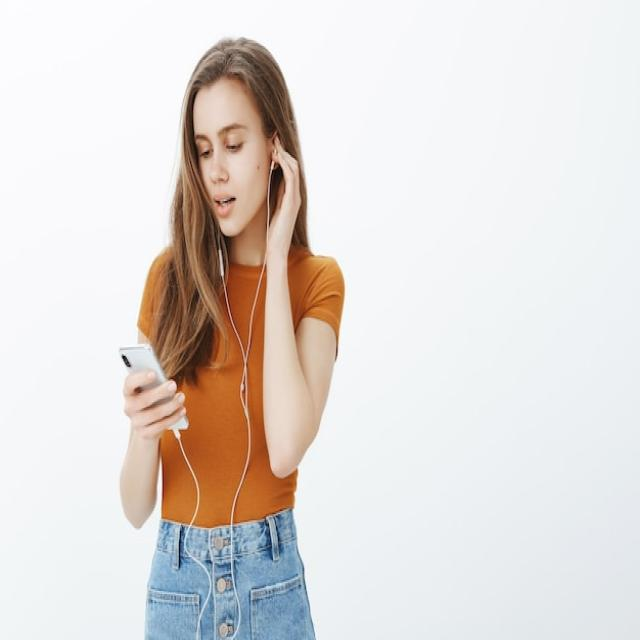Earphone: (216, 142, 279, 640)
